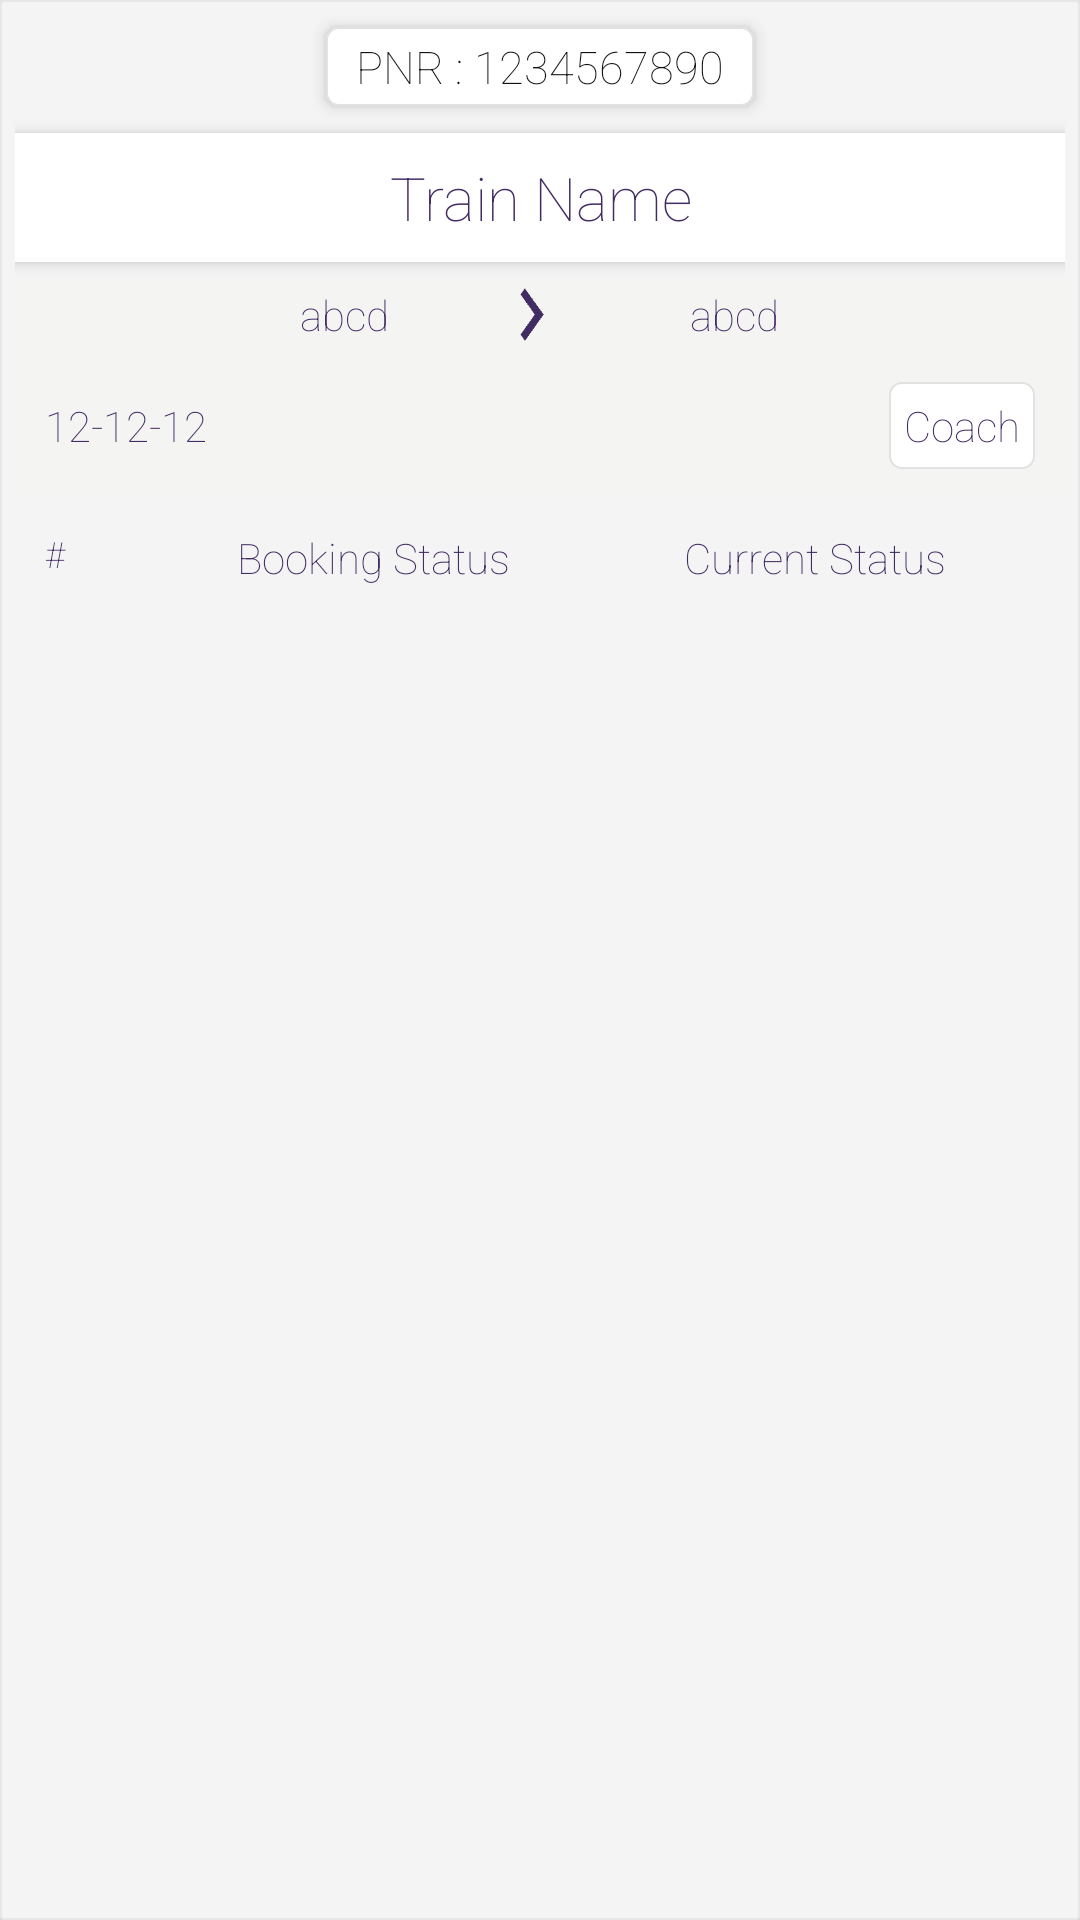

Icon bounding boxes for this 1080×1920 phone screenshot, format (x1, y1, x2, y2):
arrow: (520, 288, 544, 341)
